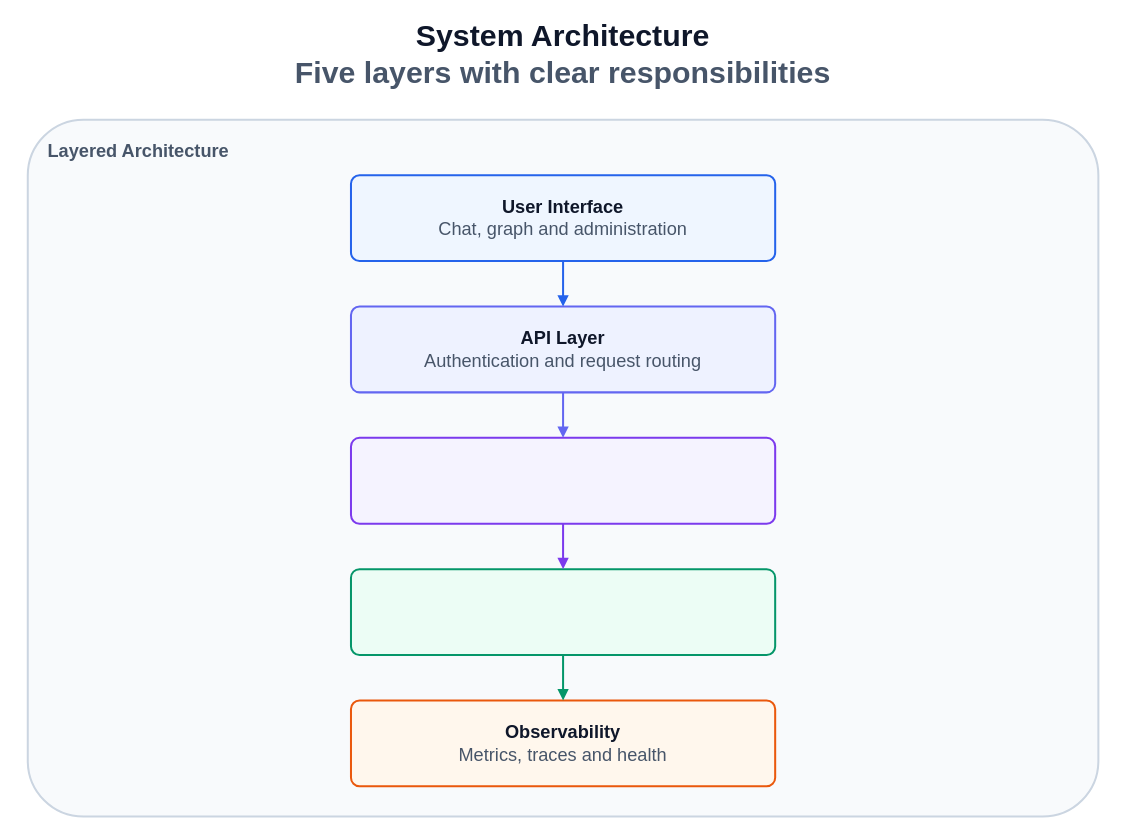
The diagram is 1125 pixels wide and 834 high, and some of its shapes have lost their labels. The box of each missing label's shape, as (x1, y1, x2, y2) in pixels:
Data Services Documents, vectors and graph: (349, 568, 776, 655)
Reasoning Engine Retrieval, planning and synthesis: (349, 436, 776, 524)
